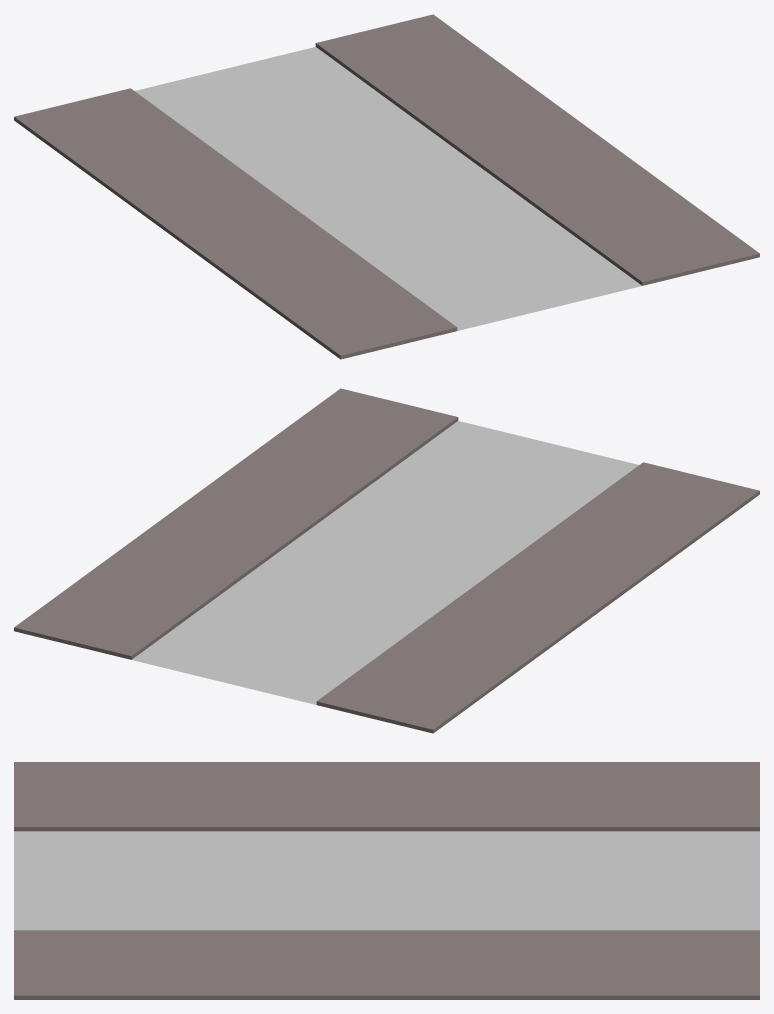
3 renders of one model, top to bottom at view 1: azimuth 30°, elevation 25°; view 2: azimuth 150°, elevation 25°; view 3: azimuth 270°, elevation 25°, orthographic. The views are drawn at different scales.
Visible parts, largest first — view 1: BASE; view 2: BASE; view 3: BASE.
Boxes of the visible parts, <box> form: BASE: <box>14,14,759,359</box>; BASE: <box>14,388,759,733</box>; BASE: <box>14,762,759,999</box>.
Bounding box in the file's own units: 212 × 1.82 × 286.
